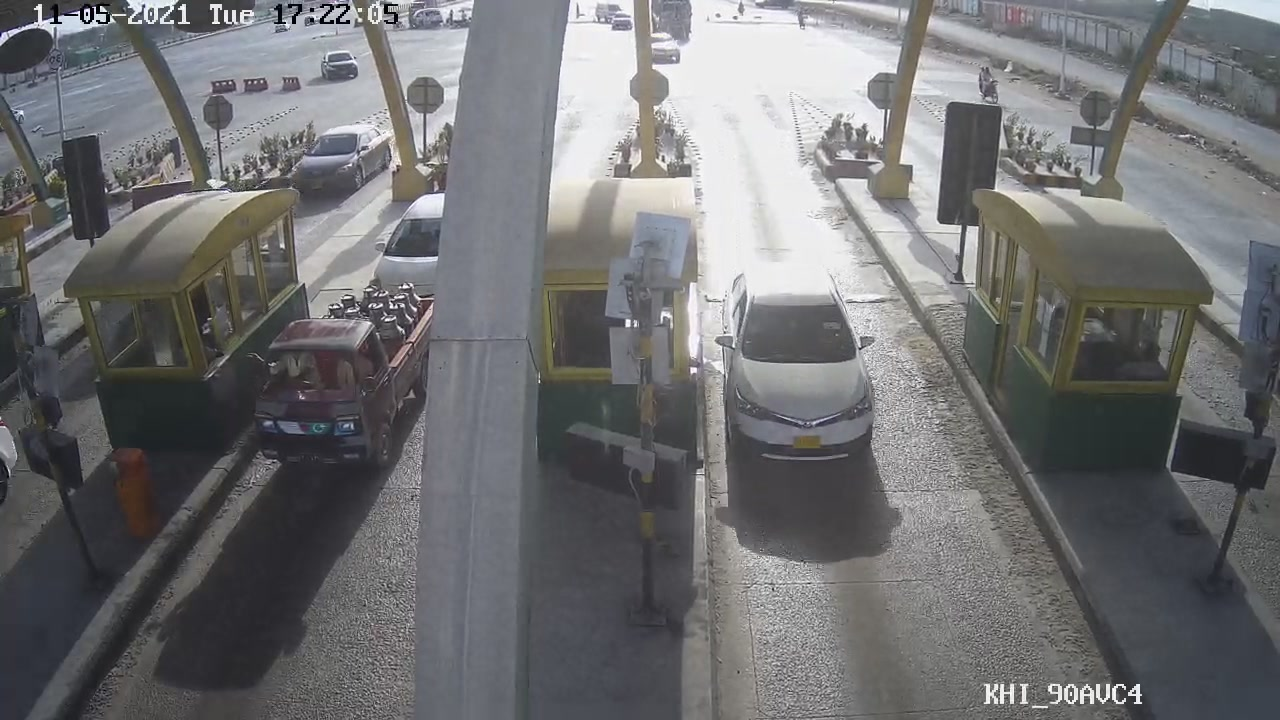F1: (705, 265, 885, 467)
